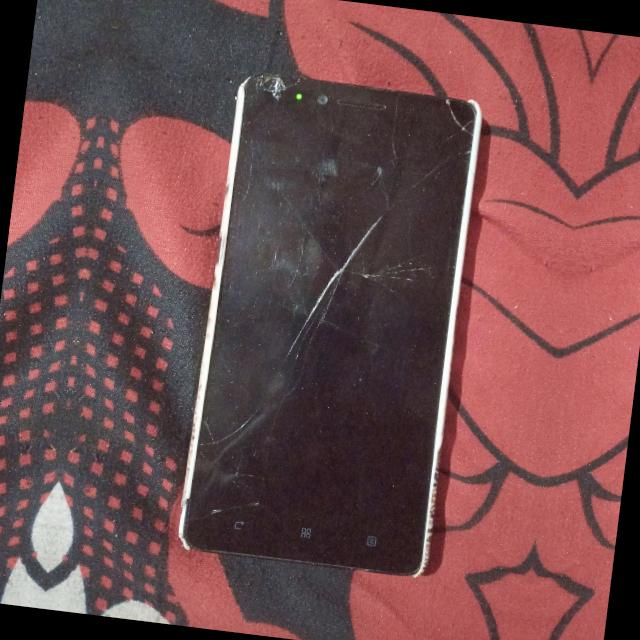phone_screen: (182, 78, 478, 574)
